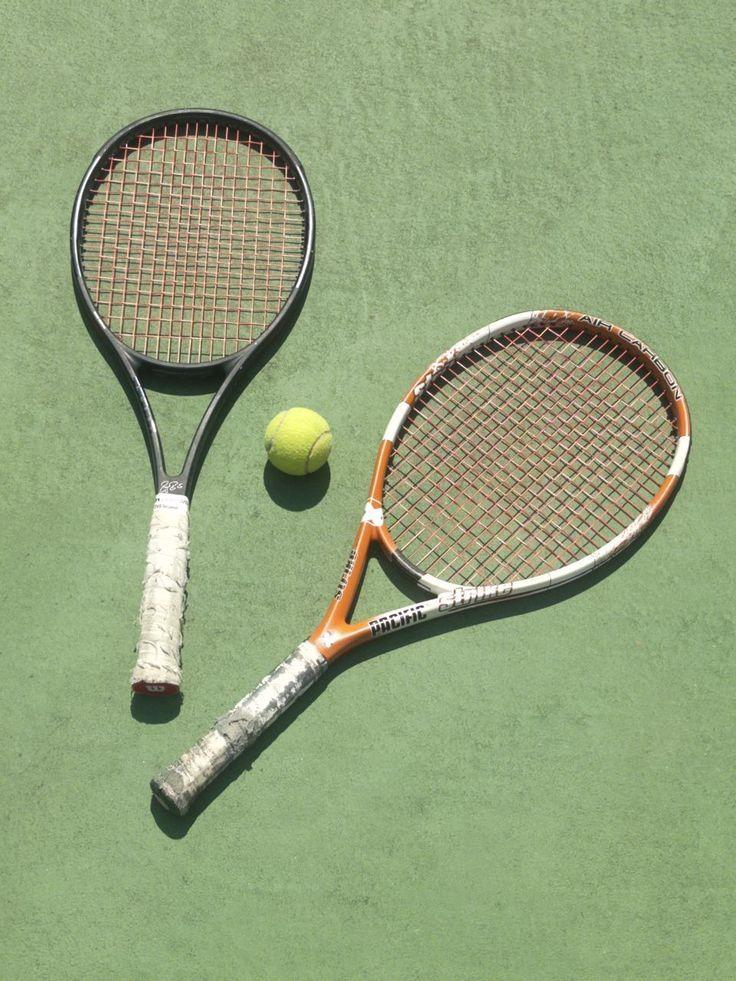Tennis-Racket: (152, 314, 676, 815), (63, 115, 316, 690)
